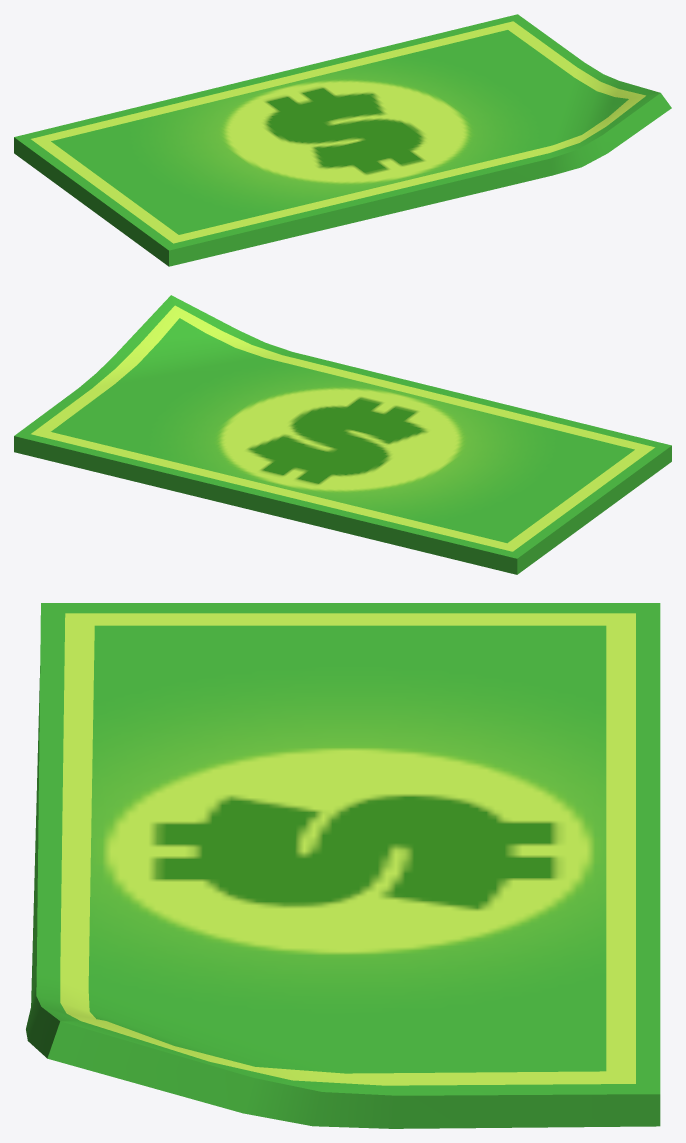
The model's file is MoneyBill_3.fbx.
The picture shows the model from 3 angles, top to bottom: view 1: azimuth 30°, elevation 25°; view 2: azimuth 150°, elevation 25°; view 3: azimuth 270°, elevation 25°; orthographic projection. The views are drawn at different scales.
Parts seen in each view (by area): view 1: MoneyBill_3; view 2: MoneyBill_3; view 3: MoneyBill_3.
Boxes of the visible parts, bbox=[...] form: MoneyBill_3: bbox=[14, 14, 671, 266]; MoneyBill_3: bbox=[14, 295, 671, 574]; MoneyBill_3: bbox=[26, 603, 660, 1128].
Bounding box in the file's own units: 33 × 3.08 × 17.9.
Materials: 1 (1 with a texture image).
